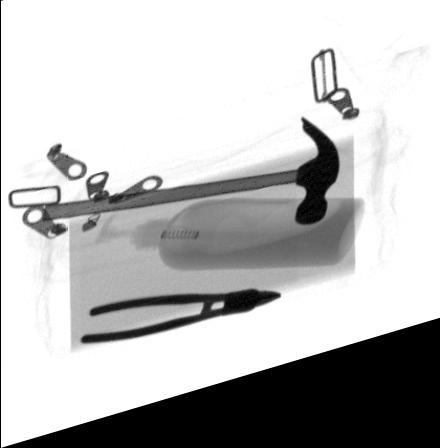Hammer: (43, 134, 339, 243)
Pliers: (80, 303, 283, 349)
